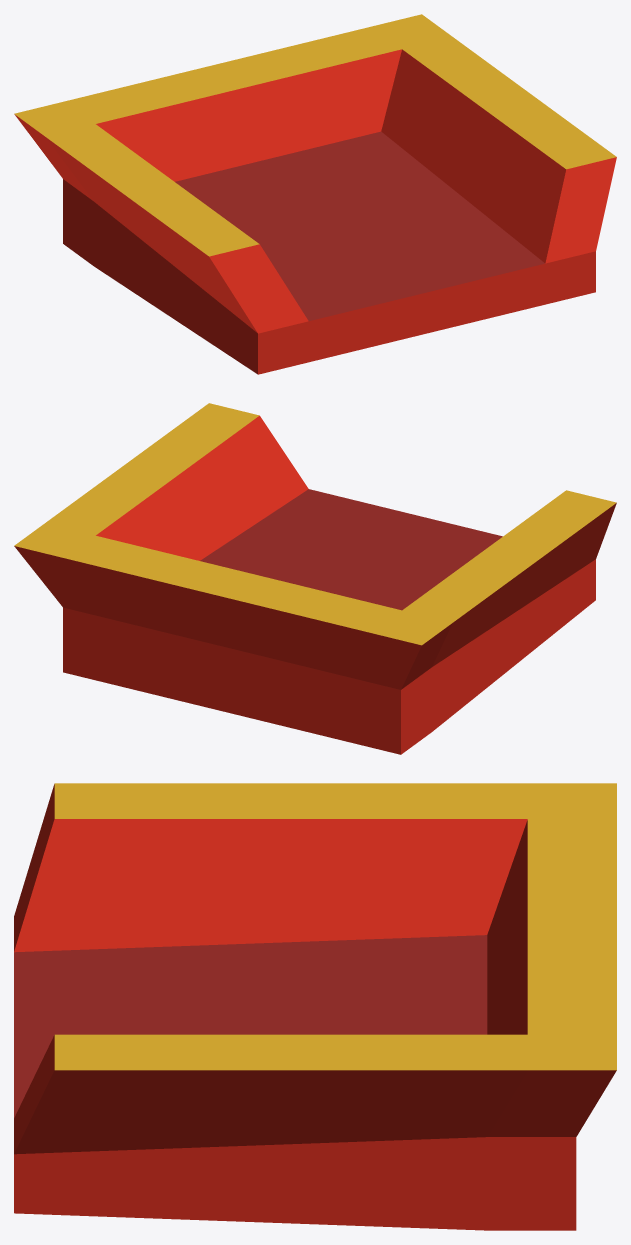
Rendered from Perreteeee_Trono.fbx.
The picture shows the model from 3 angles, top to bottom: view 1: azimuth 30°, elevation 25°; view 2: azimuth 150°, elevation 25°; view 3: azimuth 270°, elevation 25°; orthographic projection. The views are drawn at different scales.
Parts seen in each view (by area): view 1: Cube.013; view 2: Cube.013; view 3: Cube.013.
Boxes of the visible parts, x1,y1,x2,y2 form: Cube.013: (14,14,616,374); Cube.013: (14,403,616,754); Cube.013: (14,783,616,1230).
Size of the model in its own units: 514 by 155 by 457.
